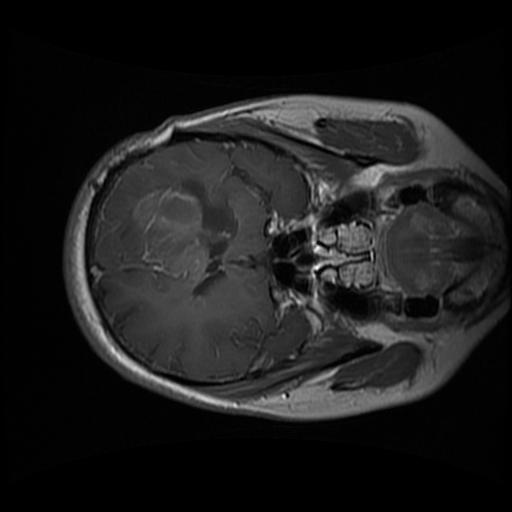glioma: (132, 177, 240, 299)
